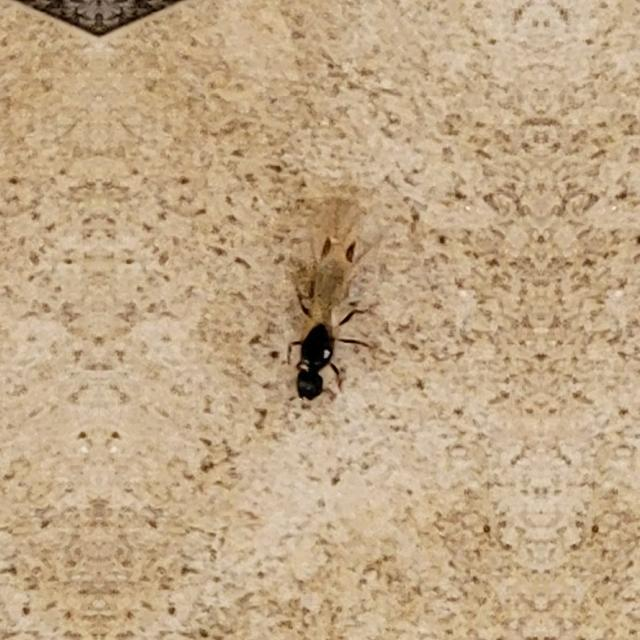Tetramorium: (271, 184, 409, 423)
